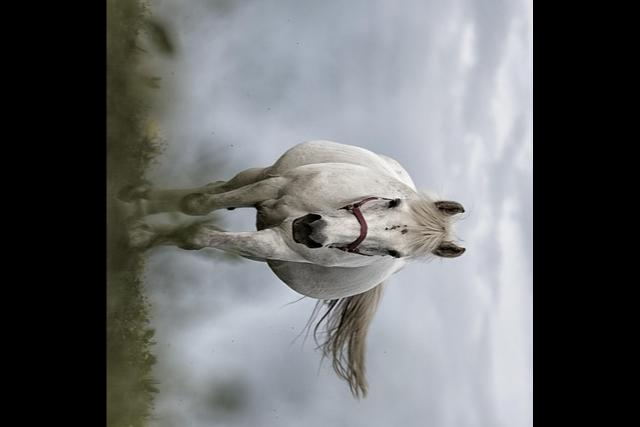Non_Gorille: (116, 79, 494, 383)
